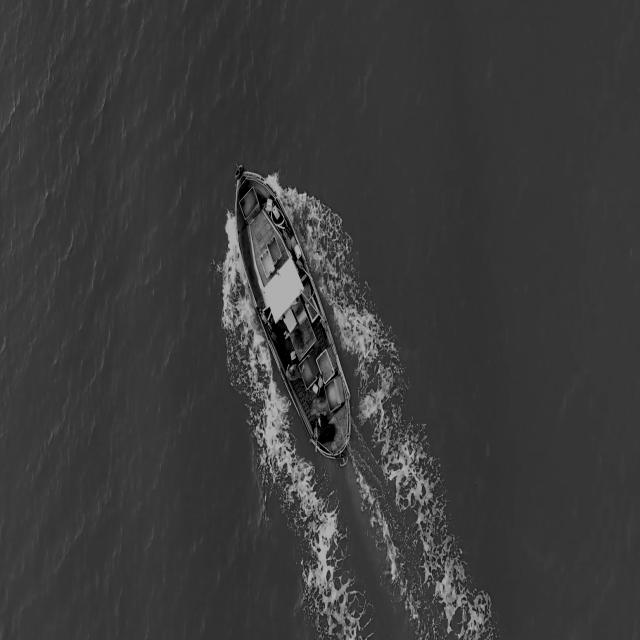ship: (228, 163, 352, 463)
